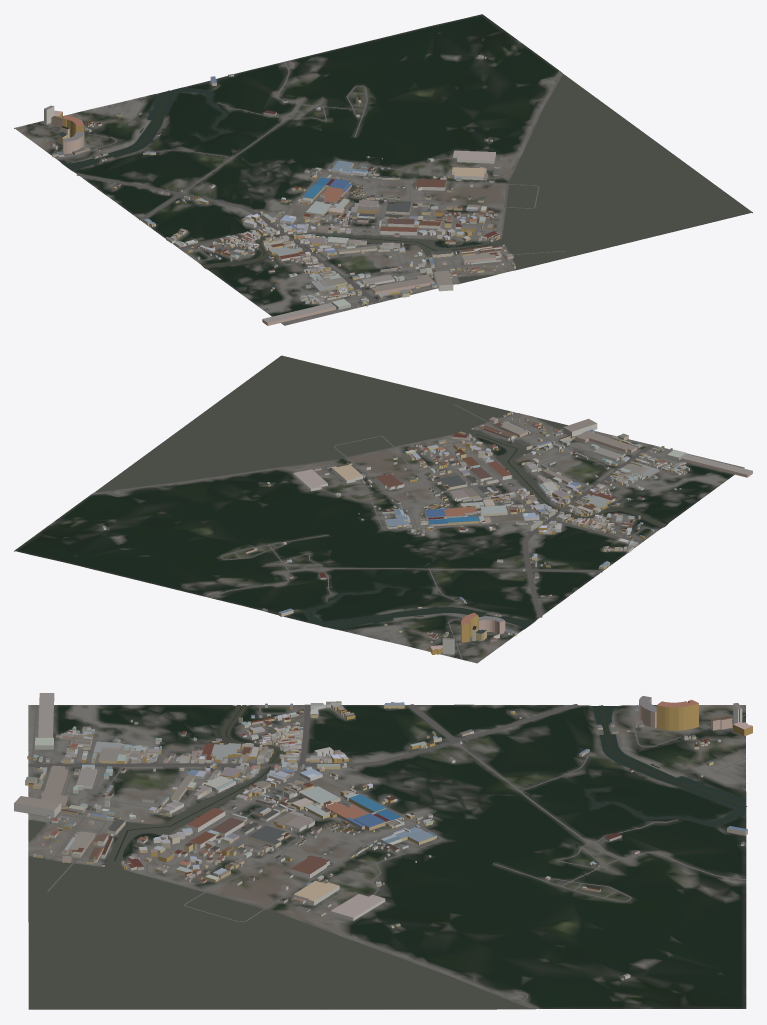
3 renders of one model, top to bottom at view 1: azimuth 30°, elevation 25°; view 2: azimuth 150°, elevation 25°; view 3: azimuth 270°, elevation 25°, orthographic. The views are drawn at different scales.
Visible parts, largest first — view 1: ground, water, buildings, roads; view 2: ground, water, buildings, roads; view 3: ground, water, buildings, roads.
Part boxes in pixels (<box>): ground: <box>14,14,752,325</box>; water: <box>56,74,751,282</box>; buildings: <box>44,55,515,325</box>; roads: <box>29,61,564,323</box>; ground: <box>14,356,744,663</box>; water: <box>95,355,666,637</box>; buildings: <box>102,412,752,654</box>; roads: <box>91,404,674,659</box>; ground: <box>28,704,746,1009</box>; water: <box>29,705,746,1008</box>; buildings: <box>14,693,752,980</box>; roads: <box>28,704,746,1009</box>.
Size of the model in its own units: 1439 by 56.23 by 1442.
